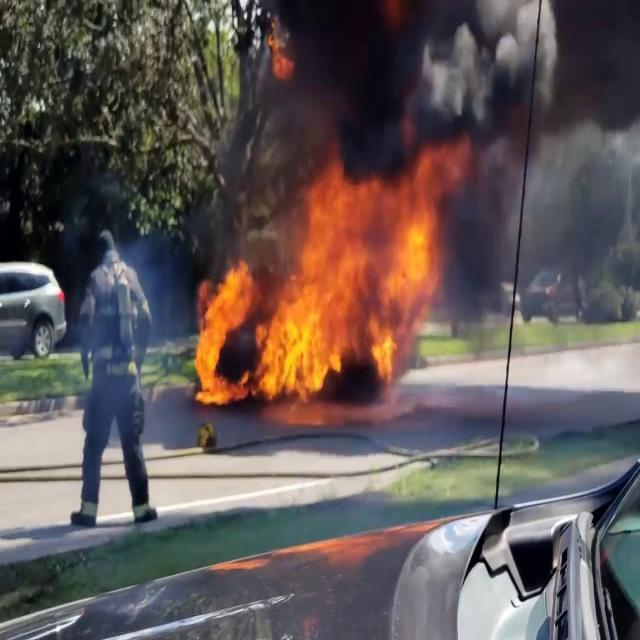Fire: (186, 162, 455, 426)
Smoke: (197, 0, 640, 296)
